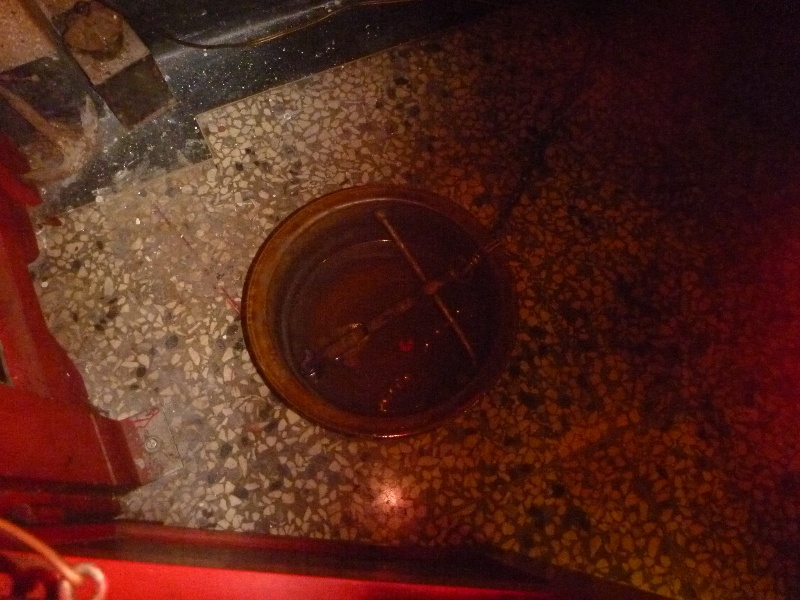bowl: (240, 180, 527, 449)
